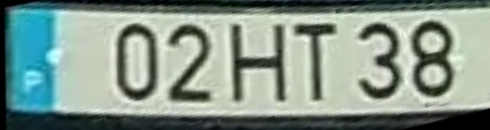0: (110, 18, 164, 109)
2: (161, 18, 216, 107)
3: (352, 16, 407, 105)
8: (406, 14, 460, 103)
H: (226, 20, 292, 109)
T: (290, 18, 341, 107)
